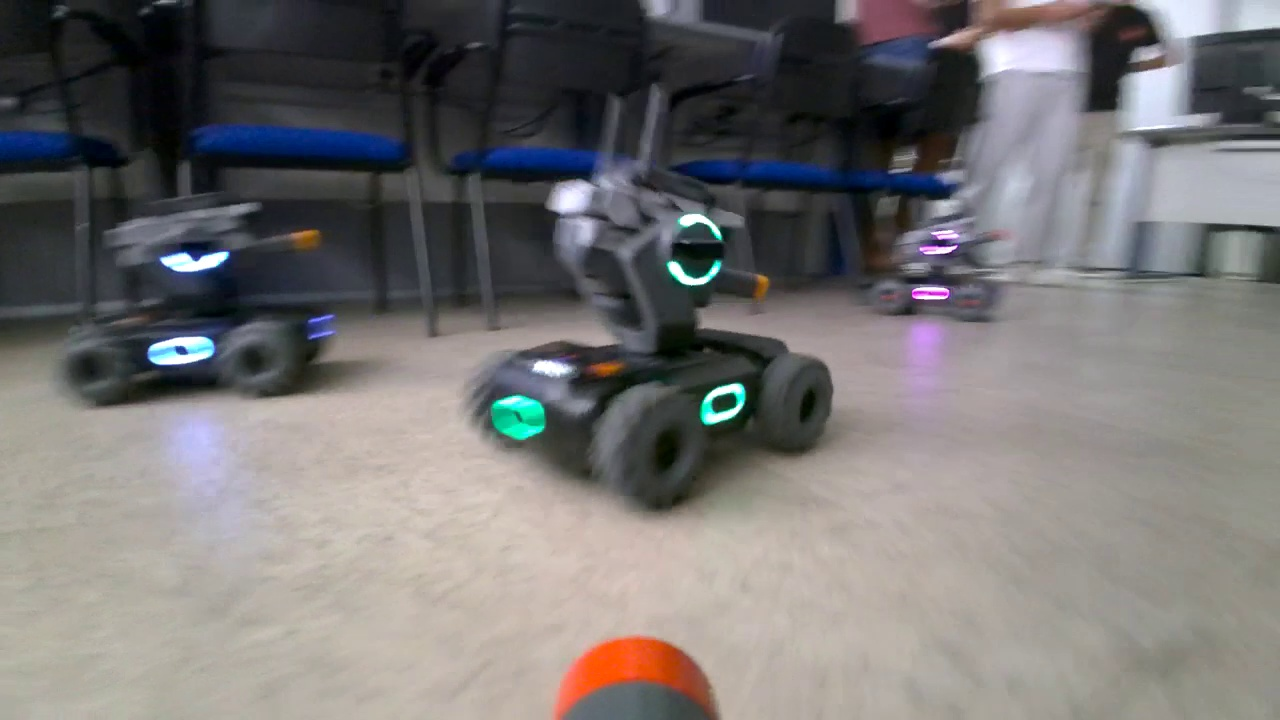robot: (463, 90, 831, 507), (65, 194, 332, 405), (877, 203, 1011, 328)
